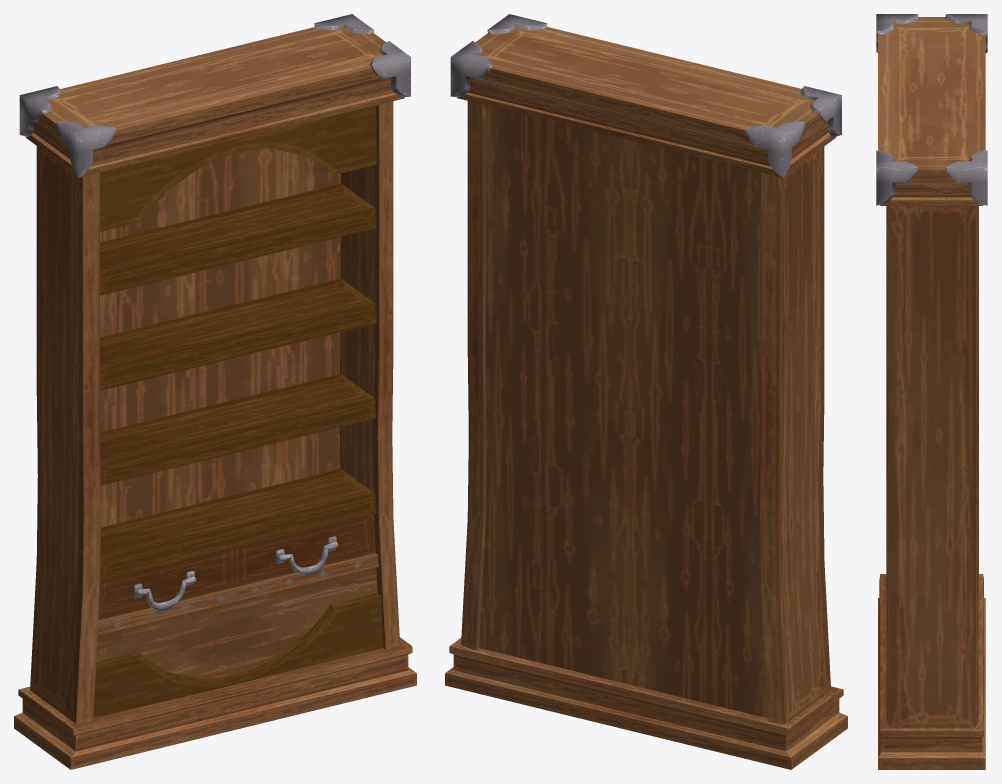
Rendered from bookcase.glb.
3 renders of one model, left to right at view 1: azimuth 30°, elevation 25°; view 2: azimuth 150°, elevation 25°; view 3: azimuth 270°, elevation 25°, orthographic. The views are drawn at different scales.
Parts seen in each view (by area): view 1: Bookcase_2; view 2: Bookcase_2; view 3: Bookcase_2.
Boxes of the visible parts, x1,y1,x2,y2 form: Bookcase_2: (14, 14, 416, 769); Bookcase_2: (445, 14, 847, 769); Bookcase_2: (876, 14, 987, 769).
Bounding box in the file's own units: 1.46 × 2.54 × 0.429.
2 materials, 2 textured.
